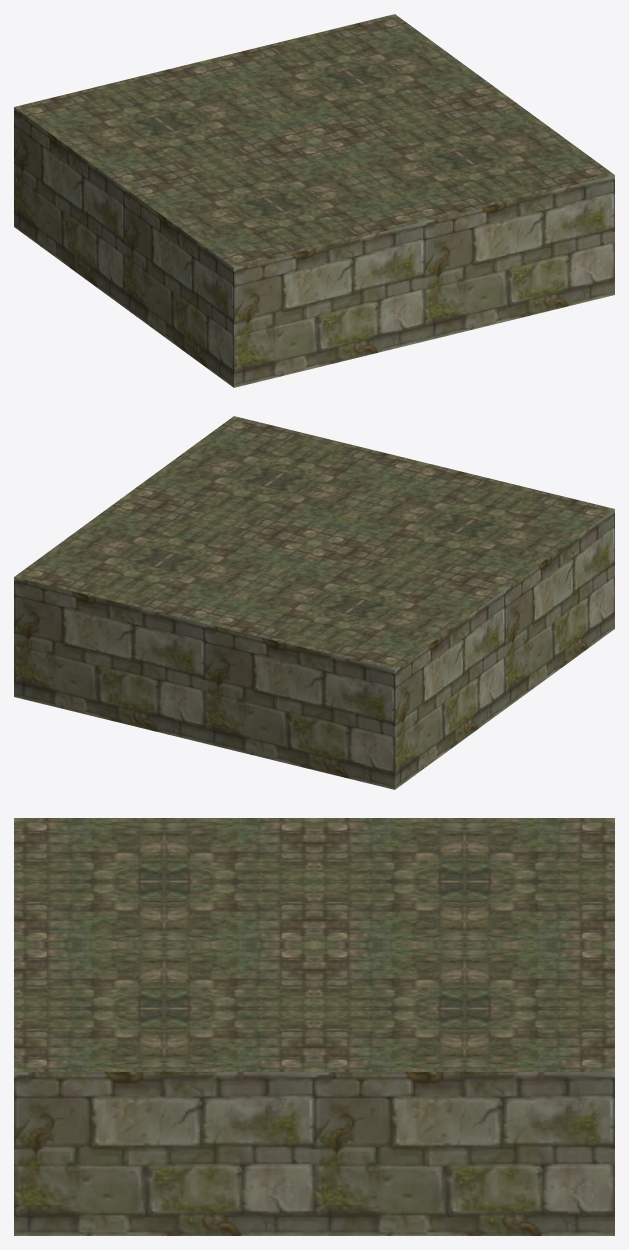
File: bottom-floor-01-2x2.fbx
3 views of the same model, one above another, from view 1: azimuth 30°, elevation 25°; view 2: azimuth 150°, elevation 25°; view 3: azimuth 270°, elevation 25° (orthographic). The views are drawn at different scales.
Visible parts, largest first — view 1: Plane.037; view 2: Plane.037; view 3: Plane.037.
Boxes of the visible parts, <box> form: Plane.037: <box>14,14,614,387</box>; Plane.037: <box>14,416,614,789</box>; Plane.037: <box>14,818,614,1235</box>.
Bounding box in the file's own units: 2 × 0.6014 × 2.
